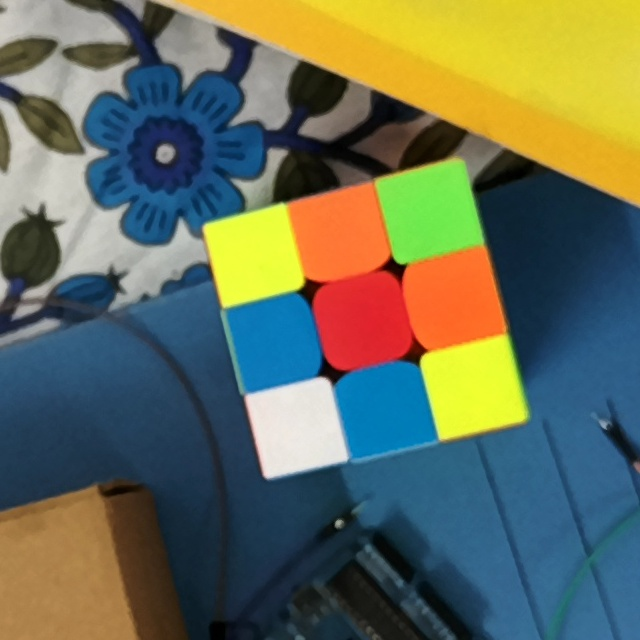tile: (417, 263, 488, 334), (393, 178, 467, 245), (303, 201, 375, 268), (325, 288, 397, 355), (438, 353, 510, 418), (240, 309, 308, 372), (349, 377, 418, 439), (222, 223, 287, 287), (265, 395, 328, 456)
